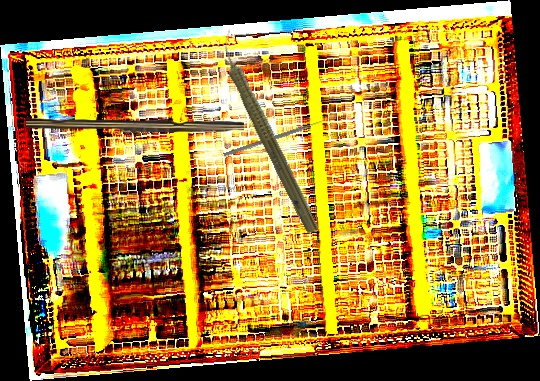Handpiece: (207, 26, 328, 237)
Pusher: (223, 116, 331, 158)
Scalpel Handle: (26, 118, 244, 135)
